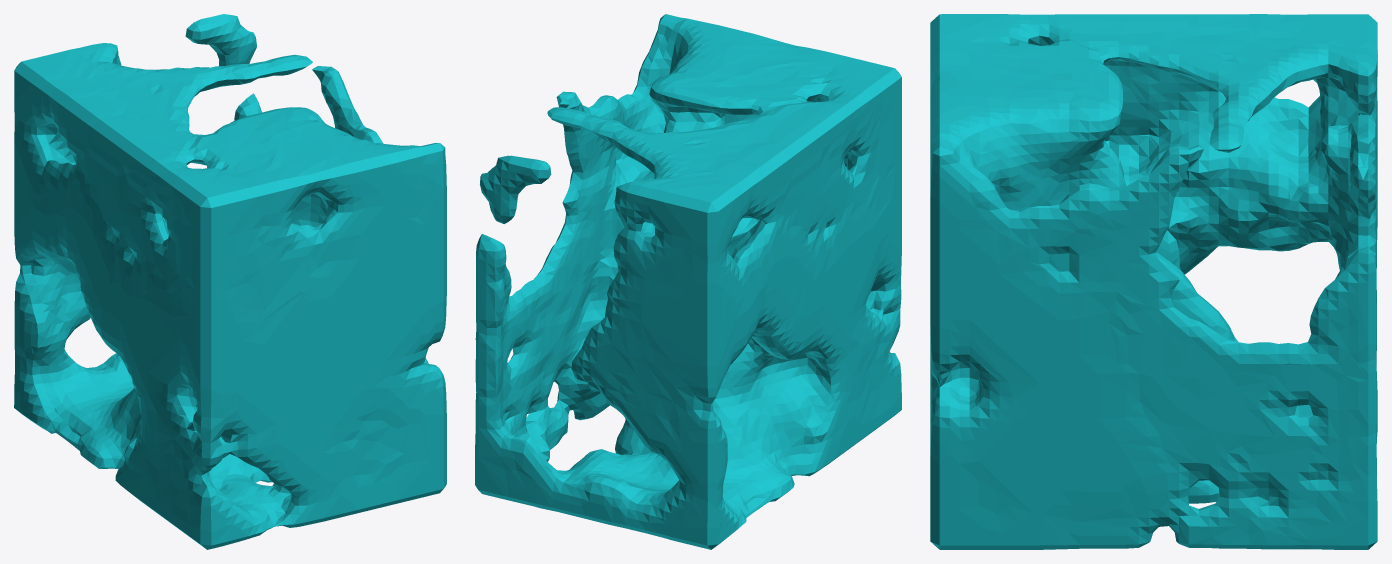
The picture shows the model from 3 angles, left to right: view 1: azimuth 30°, elevation 25°; view 2: azimuth 150°, elevation 25°; view 3: azimuth 270°, elevation 25°; orthographic projection. The views are drawn at different scales.
Visible parts, largest first — view 1: Liquid_Domain; view 2: Liquid_Domain; view 3: Liquid_Domain.
Part boxes in pixels (bbox=[...]): Liquid_Domain: bbox=[14, 14, 446, 549]; Liquid_Domain: bbox=[475, 14, 901, 549]; Liquid_Domain: bbox=[930, 14, 1377, 549].
Bounding box in the file's own units: 79.11 × 108 × 108.
